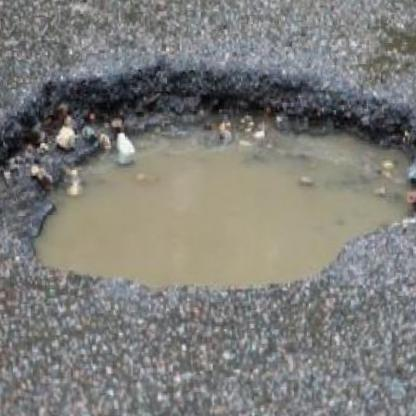pothole: (0, 54, 416, 301)
